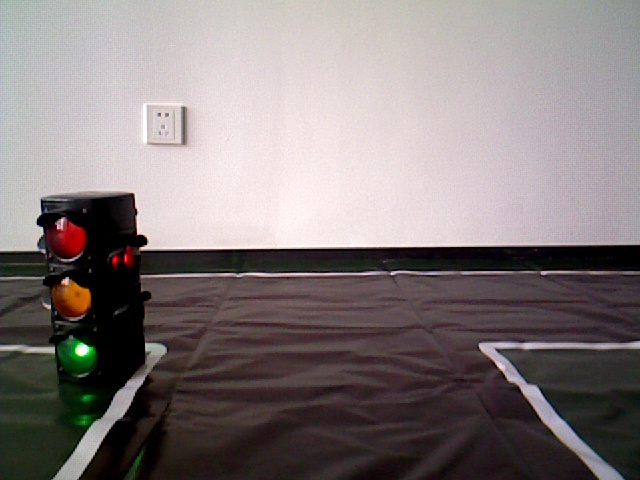green: (47, 200, 138, 370)
